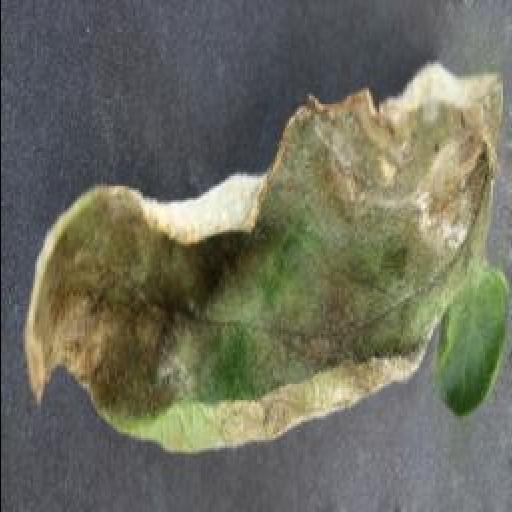disease_tomato: (20, 62, 512, 458)
